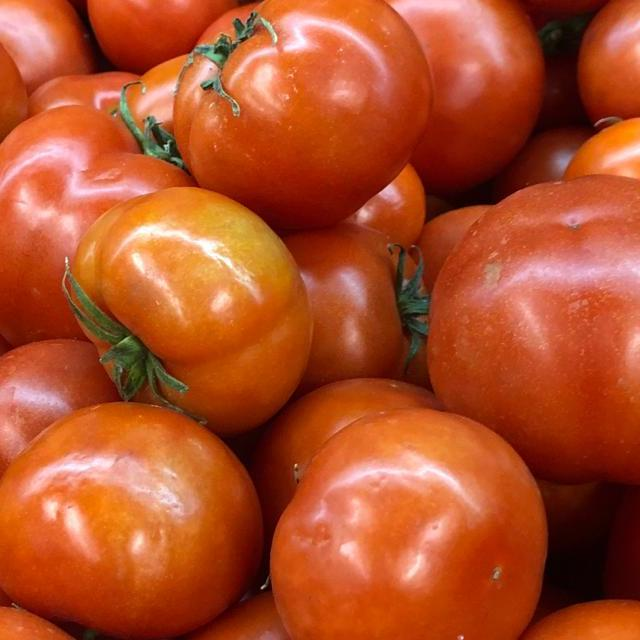tomato: (237, 390, 557, 640), (42, 175, 342, 438), (417, 147, 640, 480), (155, 0, 445, 220), (0, 397, 262, 640)
